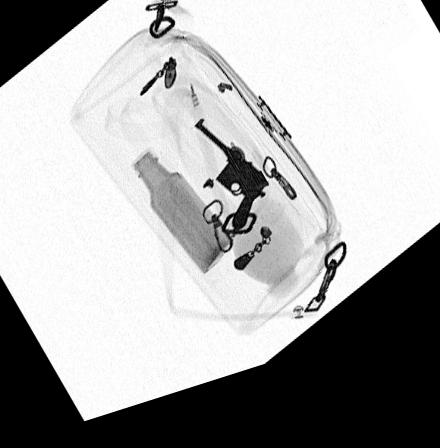Gun: (191, 128, 269, 245)
